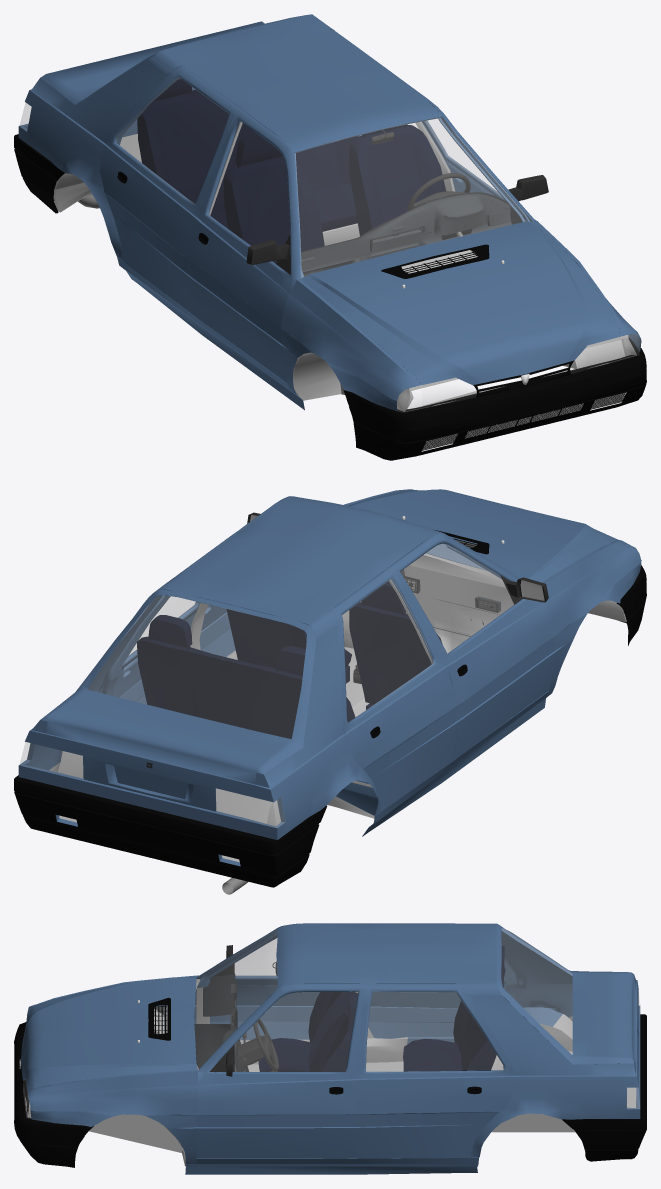
The model's file is nova.glb.
3 views of the same model, one above another, from view 1: azimuth 30°, elevation 25°; view 2: azimuth 150°, elevation 25°; view 3: azimuth 270°, elevation 25° (orthographic). The views are drawn at different scales.
Visible parts, largest first — view 1: nova_chassis, nova_hood, nova_windshield_F, nova_door_F, nova_seat_F, nova_bumper_F, nova_door_R, nova_seat_R, nova_fender, nova_window_R, nova_window_F, nova_dashboard (+9 smaller); view 2: nova_chassis, nova_tailgate, nova_windshield_R, nova_bumper_R, nova_door_F, nova_door_R, nova_seat_R, nova_hood, nova_seat_F, nova_window_R, nova_window_F, nova_fender (+4 smaller); view 3: nova_chassis, nova_door_F, nova_door_R, nova_hood, nova_window_F, nova_window_R, nova_fender, nova_tailgate, nova_windshield_F, nova_windshield_R, nova_sideskirt, nova_seat_F (+8 smaller).
Boxes of the visible parts, left/top/right/bottom form: nova_chassis: left=18, top=14, right=636, bottom=411; nova_hood: left=300, top=221, right=619, bottom=385; nova_windshield_F: left=295, top=117, right=532, bottom=277; nova_door_F: left=186, top=73, right=537, bottom=382; nova_seat_F: left=224, top=124, right=446, bottom=263; nova_bumper_F: left=343, top=336, right=646, bottom=460; nova_door_R: left=100, top=29, right=391, bottom=312; nova_seat_R: left=137, top=78, right=357, bottom=231; nova_fender: left=280, top=221, right=641, bottom=411; nova_window_R: left=116, top=77, right=417, bottom=204; nova_window_F: left=208, top=119, right=500, bottom=262; nova_dashboard: left=301, top=192, right=521, bottom=276; nova_chassis: left=18, top=496, right=626, bottom=887; nova_tailgate: left=40, top=589, right=316, bottom=811; nova_windshield_R: left=88, top=596, right=306, bottom=738; nova_bumper_R: left=14, top=775, right=327, bottom=887; nova_door_F: left=199, top=496, right=554, bottom=760; nova_door_R: left=113, top=530, right=457, bottom=811; nova_seat_R: left=136, top=615, right=355, bottom=739; nova_hood: left=347, top=489, right=618, bottom=582; nova_seat_F: left=226, top=581, right=442, bottom=709; nova_window_R: left=130, top=578, right=433, bottom=721; nova_window_F: left=401, top=544, right=513, bottom=653; nova_fender: left=344, top=489, right=641, bottom=712; nova_chassis: left=25, top=923, right=640, bottom=1167; nova_door_F: left=196, top=923, right=364, bottom=1158; nova_door_R: left=355, top=923, right=513, bottom=1158; nova_hood: left=20, top=976, right=197, bottom=1091; nova_window_F: left=215, top=939, right=357, bottom=1071; nova_window_R: left=366, top=991, right=503, bottom=1071; nova_fender: left=27, top=975, right=198, bottom=1174; nova_tailgate: left=496, top=923, right=638, bottom=1078; nova_windshield_F: left=194, top=929, right=277, bottom=1069; nova_windshield_R: left=501, top=928, right=572, bottom=1054; nova_sideskirt: left=196, top=1157, right=478, bottom=1174; nova_seat_F: left=258, top=991, right=358, bottom=1071.
Bounding box in the file's own units: 1.81 × 1.24 × 4.02.
